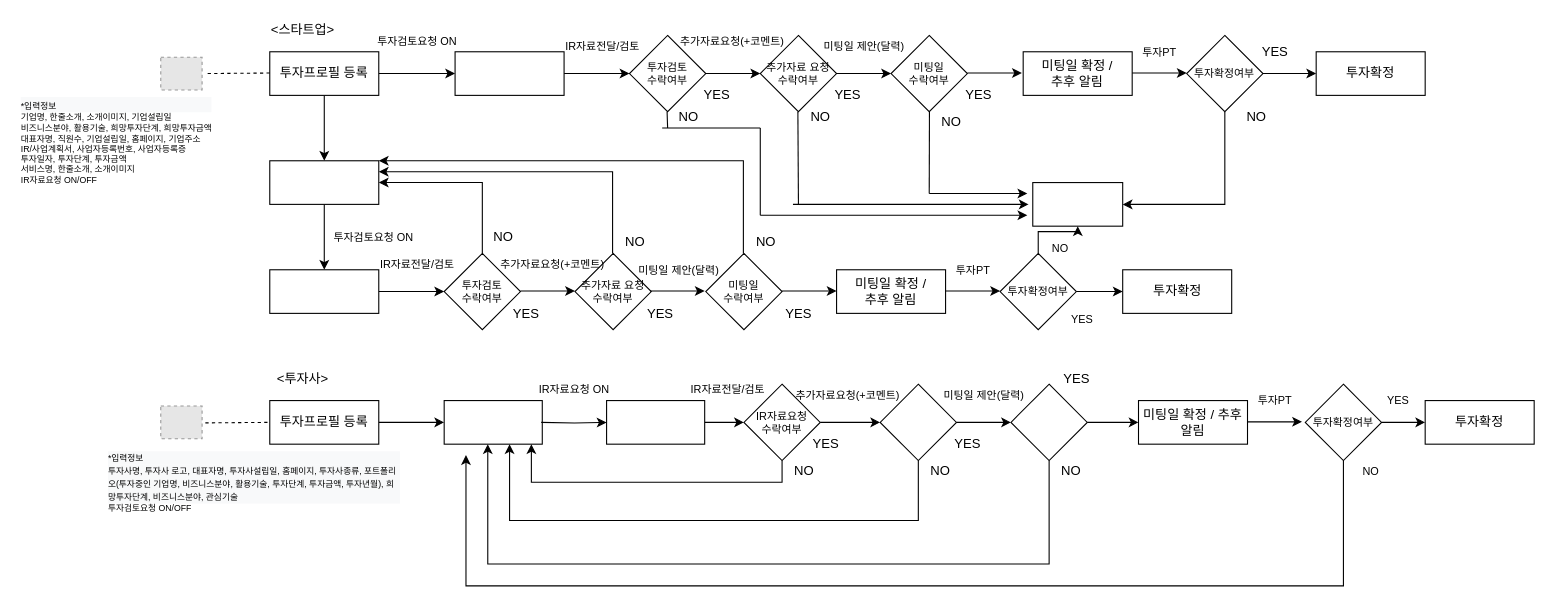
This 1553x614 diagram has some shape labels left out. Grey dashed boxes stand in for pictures. The centre of each missing label's shape, as x and y in pixels:
"IR자료요청" belongs at (655,421).
"개별 투자검토 요청" belongs at (324,291).
"미팅일 제안 수락여부" belongs at (1048,422).
"스타트업 탐색" belongs at (492,421).
"일괄 투자검토 요청" belongs at (509,73).
"종료" belongs at (1077,203).
"추가자료요청 수락여부" belongs at (917,422).
"투자사 탐색" belongs at (324,182).
